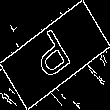P_SE: (29, 24, 81, 86)
